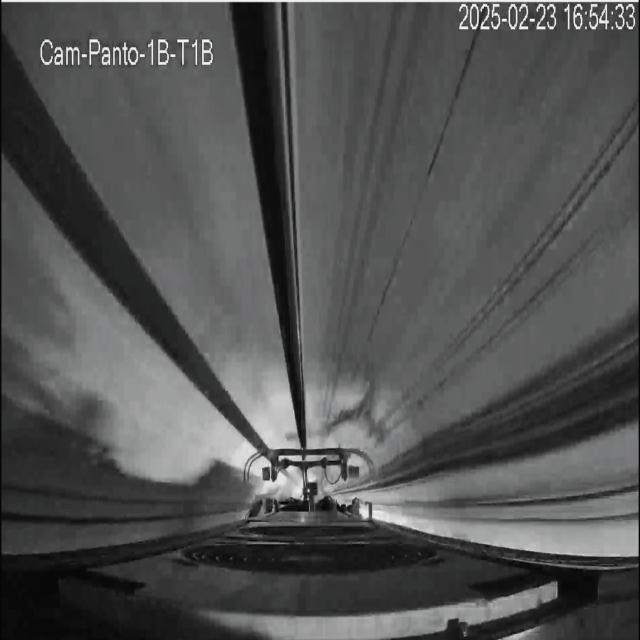Camera Stamp: (35, 29, 220, 69)
Date Stamp: (459, 3, 637, 33)
No - Spark: (245, 445, 373, 513)
